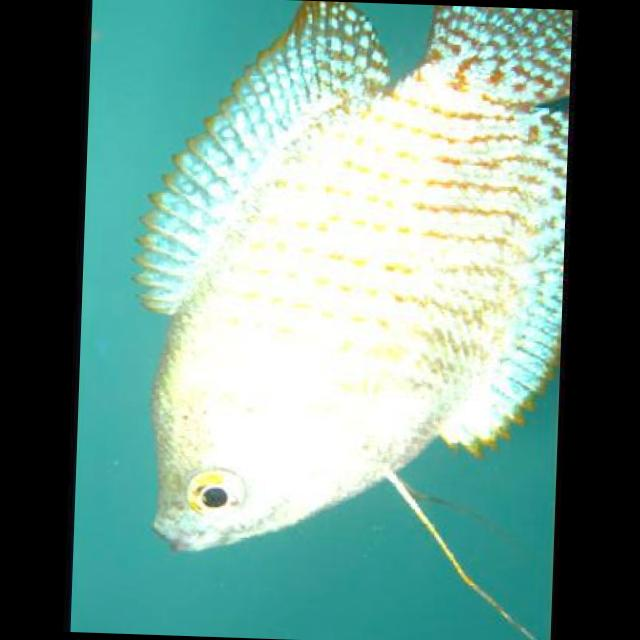Gourami: (121, 0, 574, 561)
